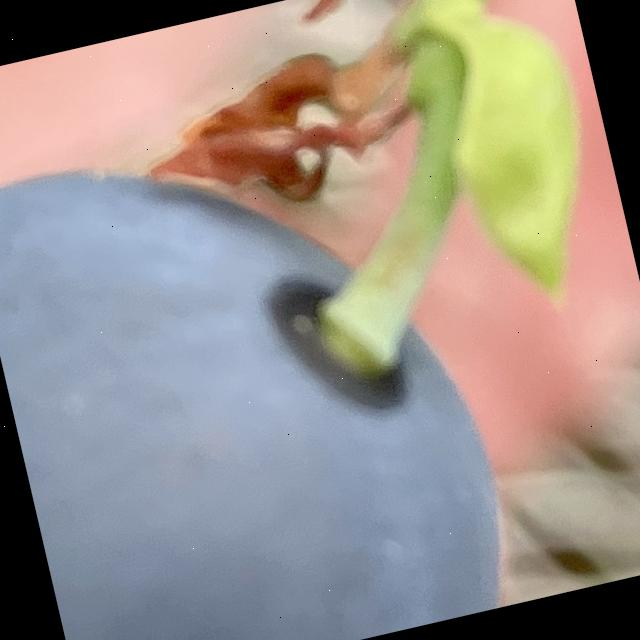Blueberries: (0, 82, 528, 640)
